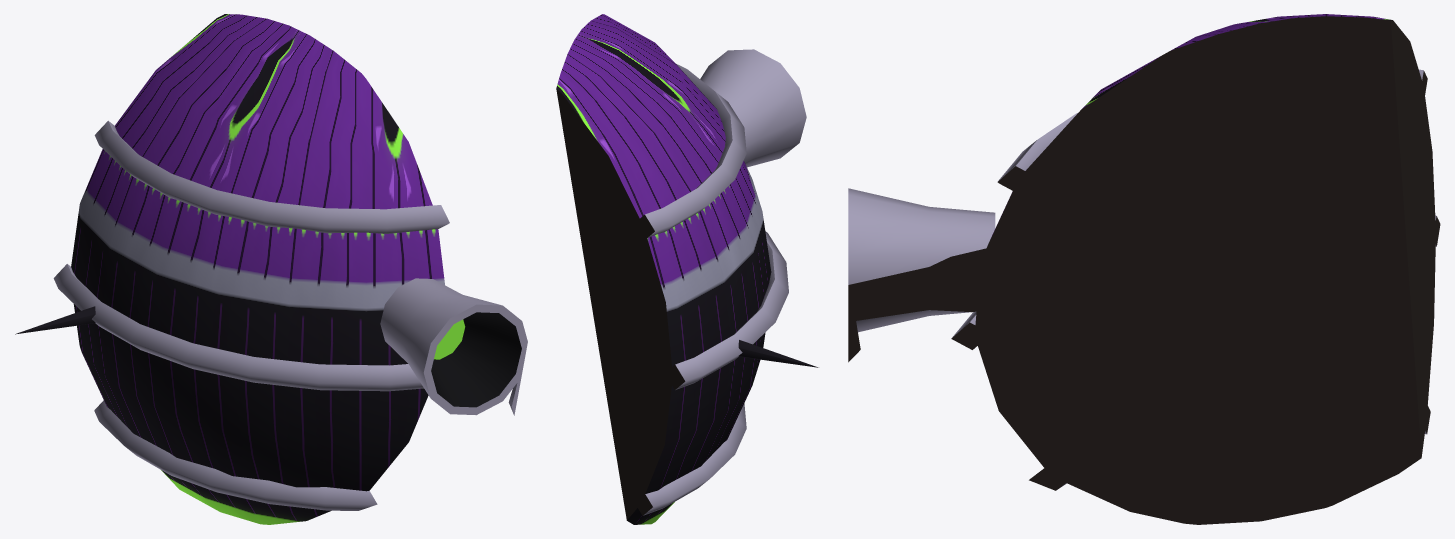
The model's file is cargo_orb_debris3.obj.
3 views of the same model, side by side, from view 1: azimuth 30°, elevation 25°; view 2: azimuth 150°, elevation 25°; view 3: azimuth 270°, elevation 25° (orthographic). The views are drawn at different scales.
Parts seen in each view (by area): view 1: orb, band, engine, spike; view 2: orb, band, engine, spike; view 3: orb, engine, band.
Part boxes in pixels (x1,y1,x2,y2): orb: (71,14,444,524); band: (53,120,449,510); engine: (380,278,527,415); spike: (15,306,95,334); orb: (556,14,771,524); band: (632,64,788,515); engine: (700,49,806,167); spike: (738,340,818,367); orb: (974,14,1435,524); engine: (848,188,995,362); band: (951,69,1440,490).
Bounding box in the file's own units: 17.92 × 24.83 × 24.19.
6 materials, 1 textured.
